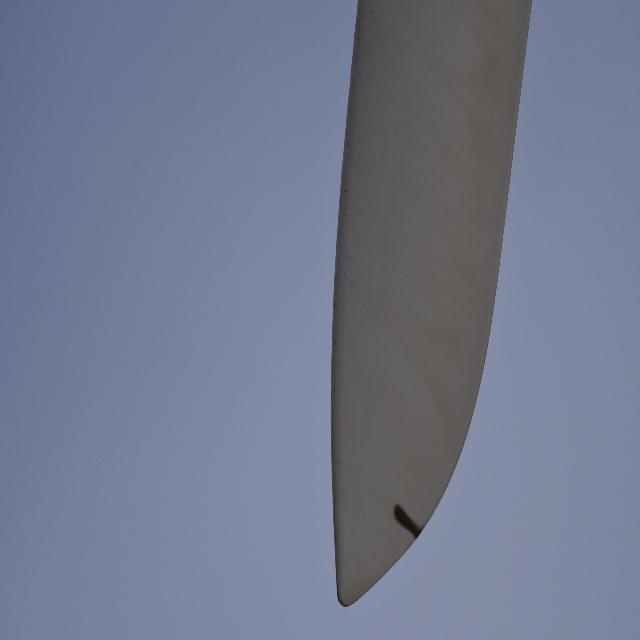Burn Mark: (391, 502, 424, 541)
